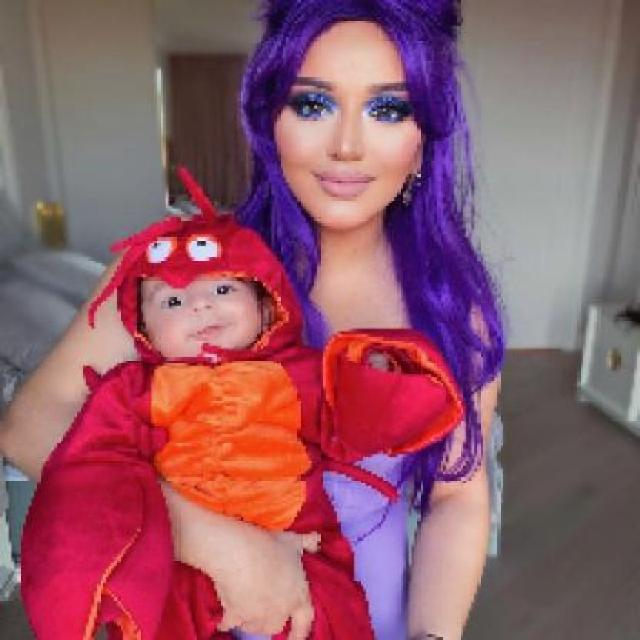child: (14, 162, 469, 638)
